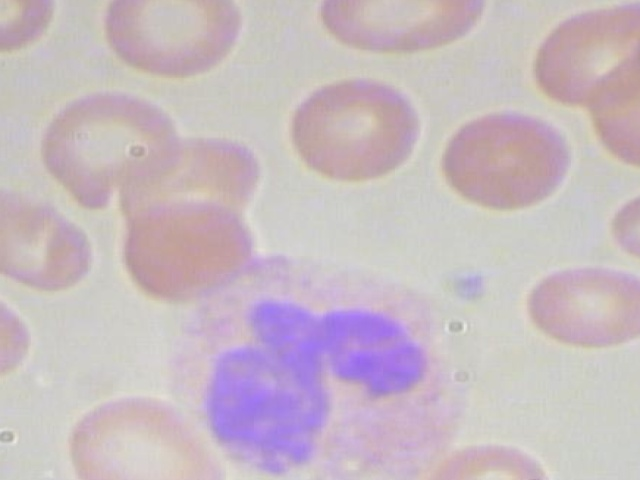RBC: (25, 82, 191, 215), (114, 188, 265, 308), (276, 69, 426, 188), (429, 103, 579, 222), (62, 377, 231, 480), (518, 0, 640, 113), (94, 0, 252, 82), (517, 257, 640, 351), (313, 0, 500, 57), (0, 184, 97, 292), (574, 49, 640, 169), (0, 0, 65, 57), (602, 171, 640, 266), (0, 279, 28, 388)
WBC: (160, 249, 501, 480)
